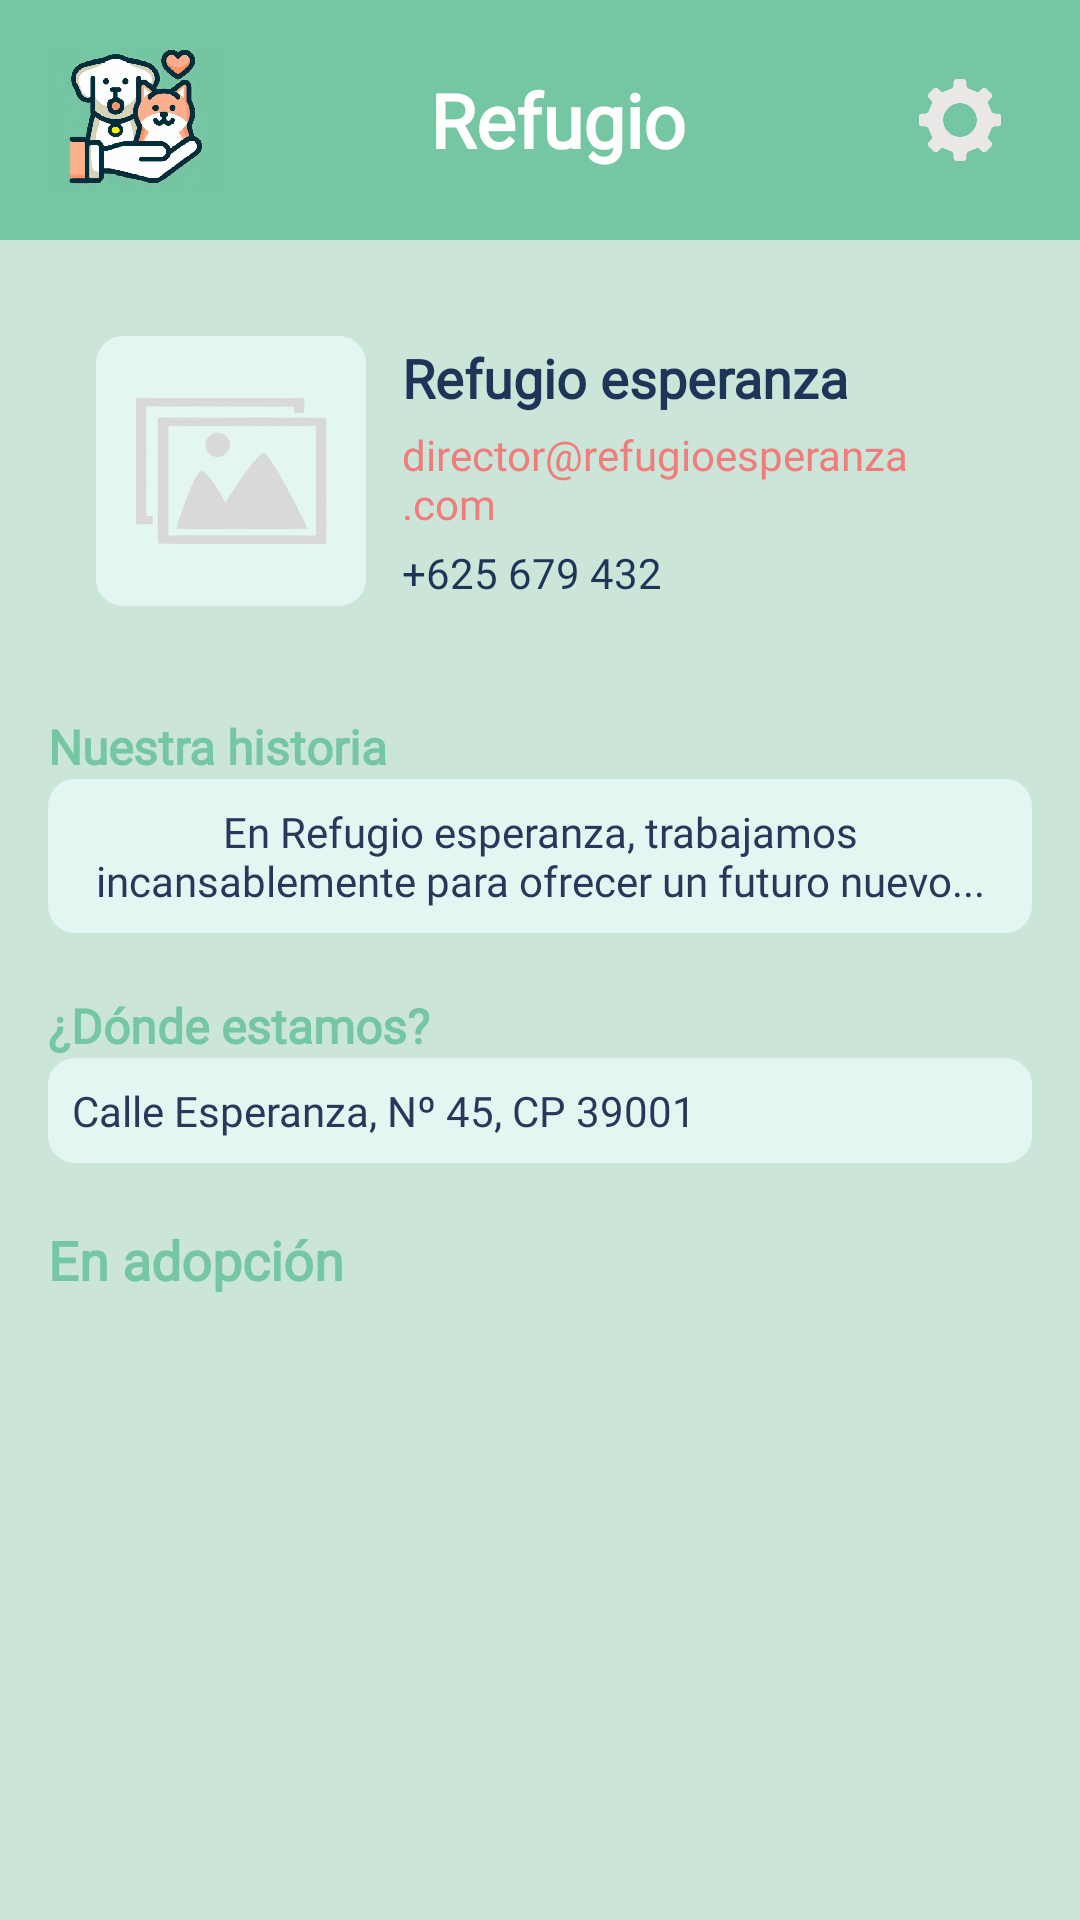

Where icons sit on this 1080px x 1920px app screen, as (x1, y1, x2, y2):
Ajustes: (919, 79, 1001, 161)
